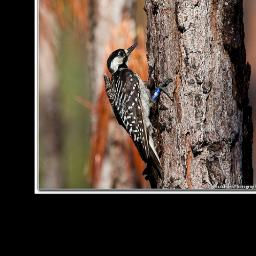Woodpecker: (98, 37, 183, 189)
